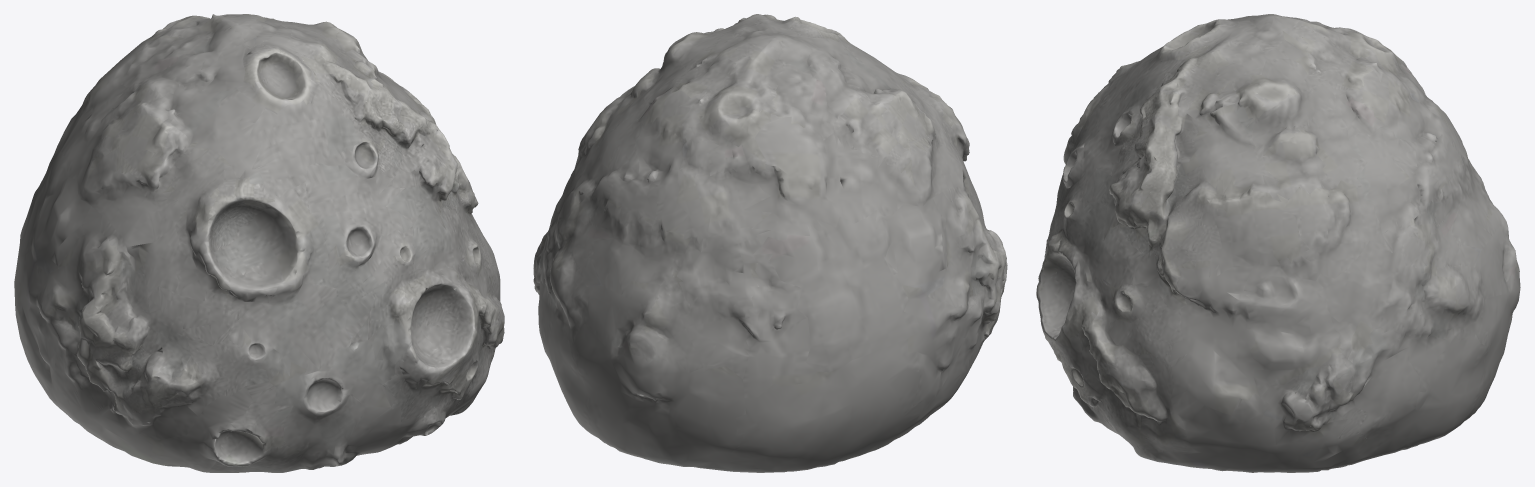
The picture shows the model from 3 angles, left to right: view 1: azimuth 30°, elevation 25°; view 2: azimuth 150°, elevation 25°; view 3: azimuth 270°, elevation 25°; orthographic projection. The views are drawn at different scales.
Bounding box in the file's own units: 1.89 × 1.58 × 1.9.
1 material, 1 textured.
